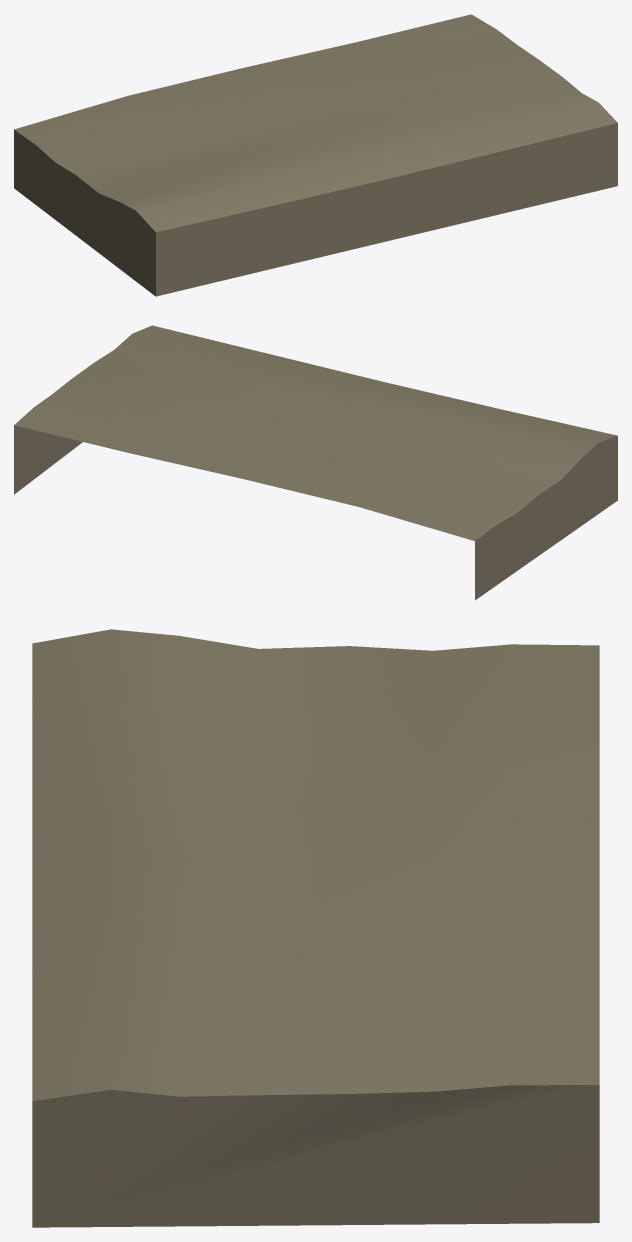
The model's file is graund_back_sand_squad.fbx.
3 renders of one model, top to bottom at view 1: azimuth 30°, elevation 25°; view 2: azimuth 150°, elevation 25°; view 3: azimuth 270°, elevation 25°, orthographic. The views are drawn at different scales.
Visible parts, largest first — view 1: graund_back_sand_squad; view 2: graund_back_sand_squad; view 3: graund_back_sand_squad.
Boxes of the visible parts, x1,y1,x2,y2 form: graund_back_sand_squad: (14, 14, 617, 296); graund_back_sand_squad: (14, 325, 617, 600); graund_back_sand_squad: (32, 629, 599, 1227).
Bounding box in the file's own units: 10.35 × 1.66 × 5.48.
